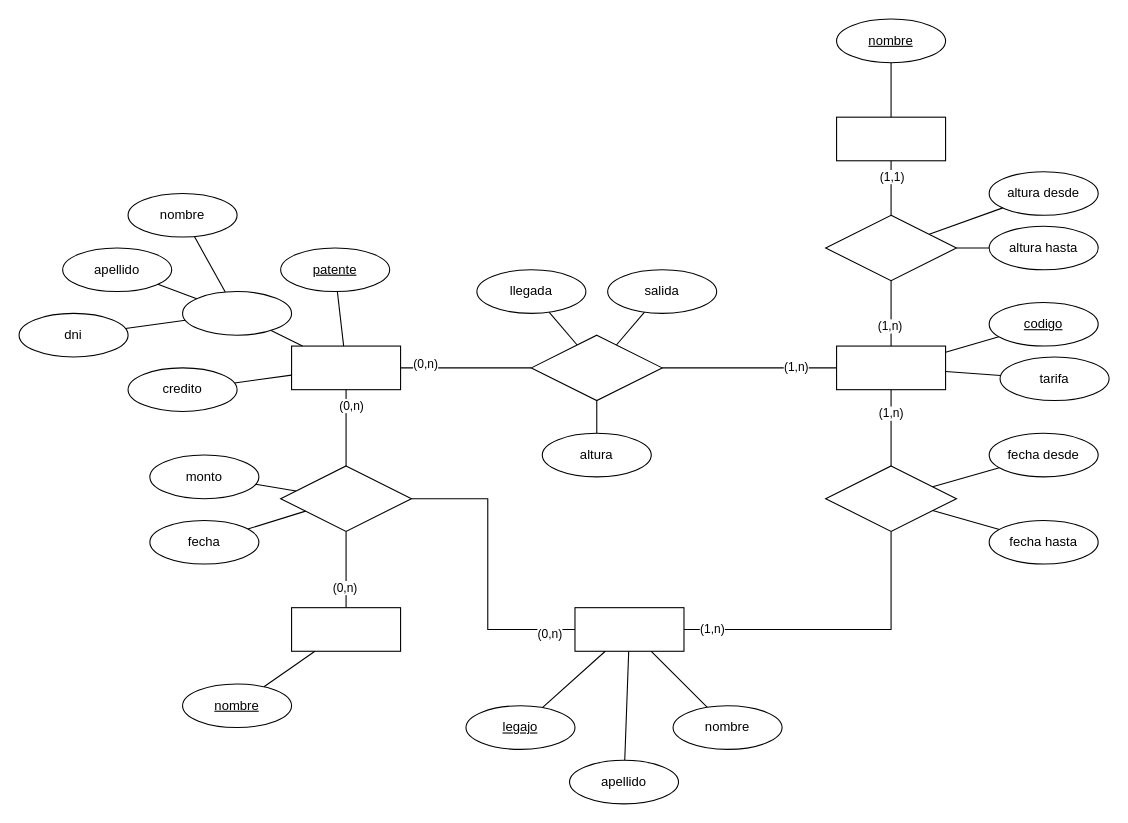
This 1128x823 diagram has some shape labels left out. Here are the shapes that lost their labels. From the top down, the centre of each, then its label:
the point at 890,138: calle
the point at 890,247: pertenece
the point at 236,312: propietario
the point at 345,367: vehiculo
the point at 596,367: estaciona
the point at 890,367: zona
the point at 345,498: carga credito
the point at 890,498: administrado
the point at 345,629: tipo de carga
the point at 629,629: responsable
